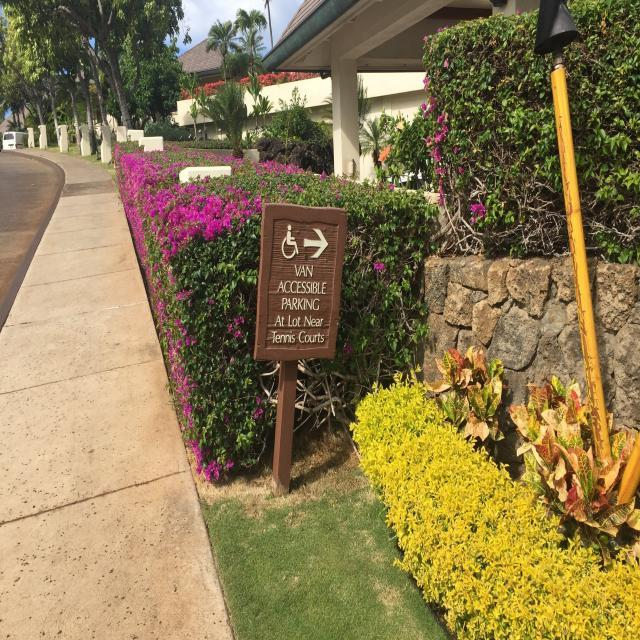symbol_of_access: (280, 221, 300, 260)
